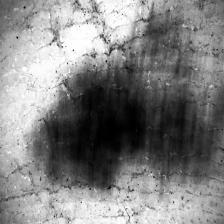Benign Marking or Mole: (32, 35, 202, 186)
